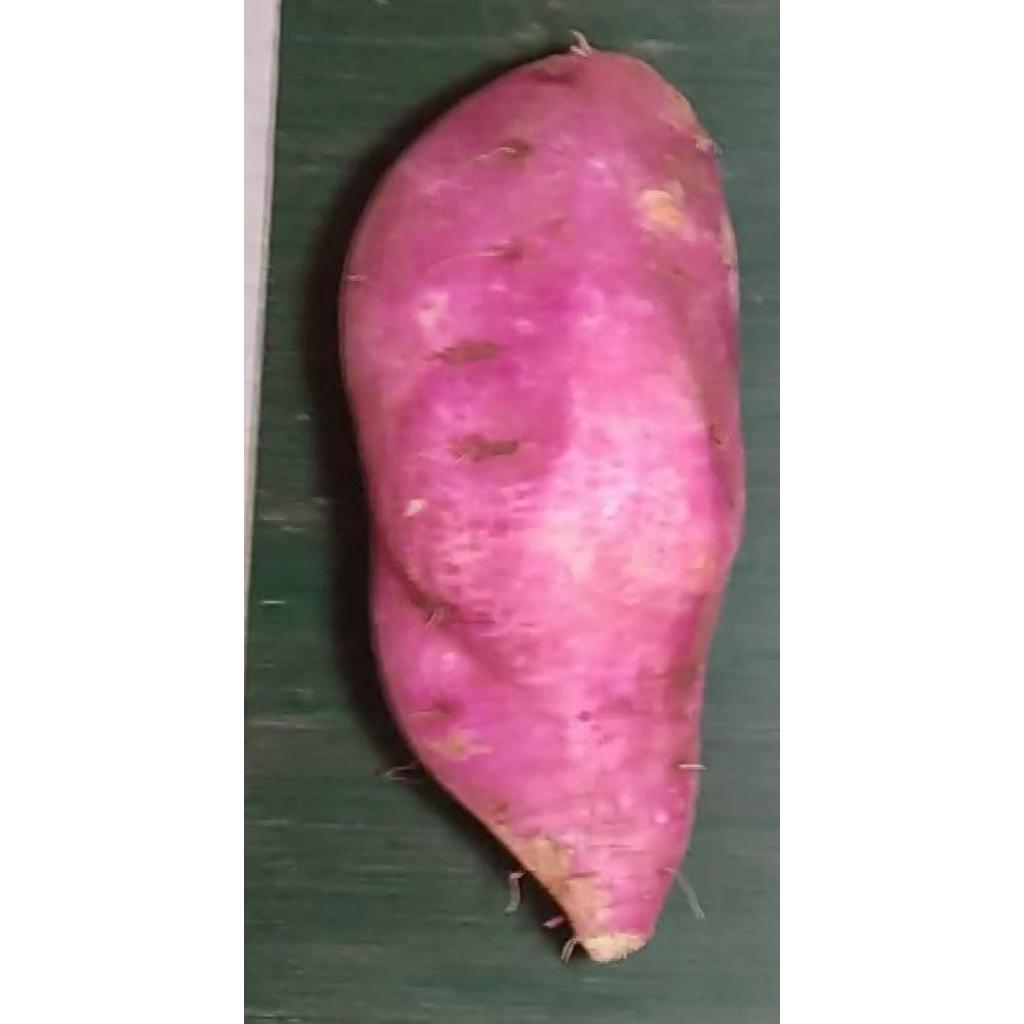Sweet Potato: (335, 39, 742, 967)
